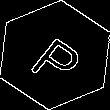P_NE: (23, 24, 87, 86)
